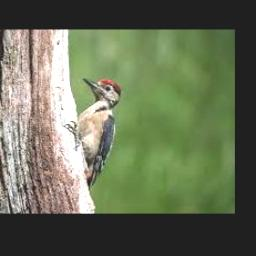Woodpecker: (76, 78, 121, 188)
